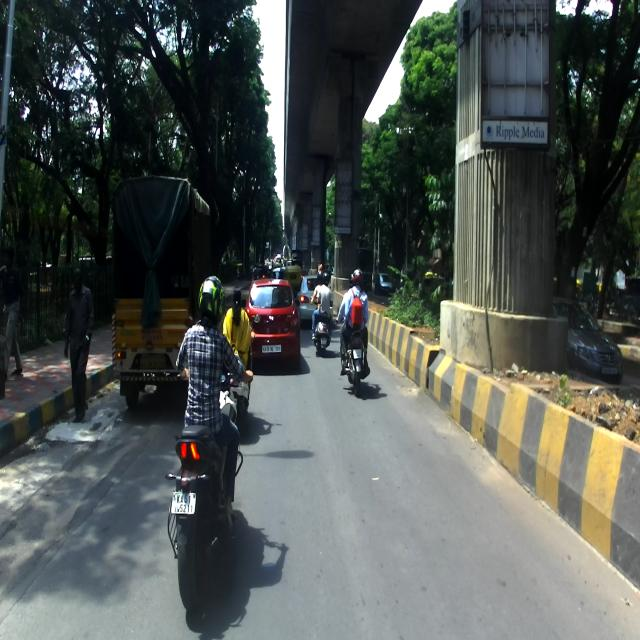car ahead at: (249, 273, 305, 377)
motorcycle ahead at: (168, 416, 254, 612), (339, 340, 372, 398)
person ahead at: (61, 269, 100, 427), (1, 248, 27, 398)
truck ahead at: (107, 170, 189, 402)
